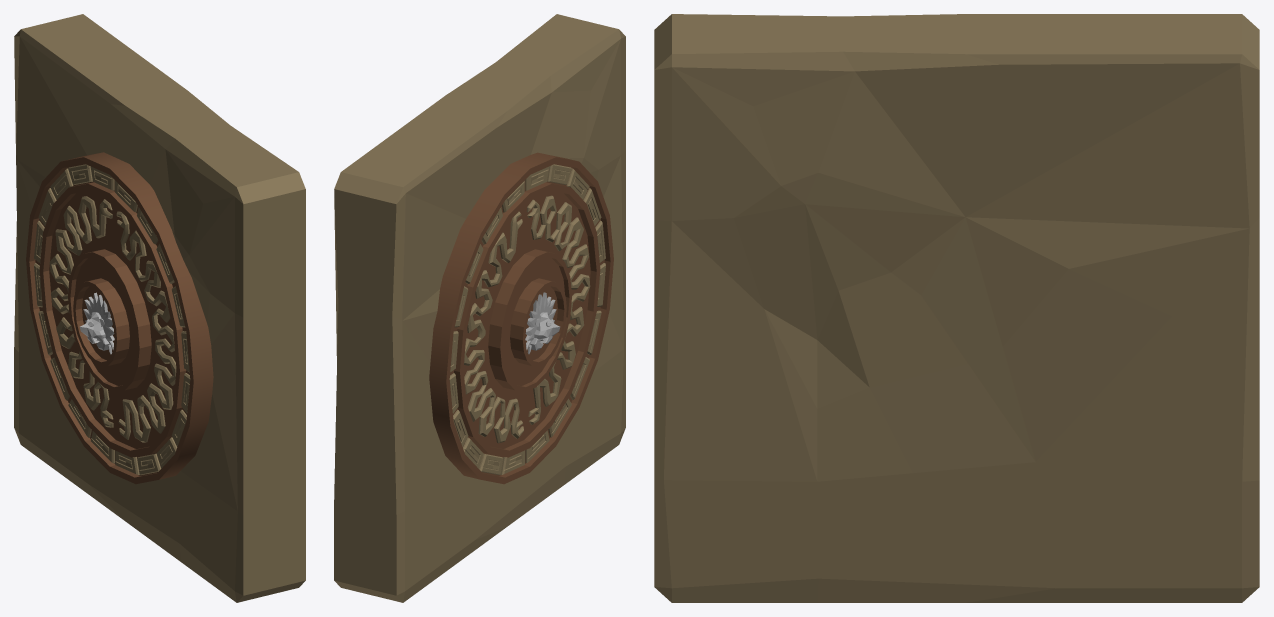
File: Hybrid_Door_V3.fbx
3 renders of one model, left to right at view 1: azimuth 30°, elevation 25°; view 2: azimuth 150°, elevation 25°; view 3: azimuth 270°, elevation 25°, orthographic. The views are drawn at different scales.
Parts seen in each view (by area): view 1: Door_Block, Rims (×2), Plane (×2), Snakes, Squares, polySurface141, Spikes, InputPlane, Body; view 2: Door_Block, Rims (×2), Plane (×2), Snakes, Squares, polySurface141, Spikes, InputPlane, Body; view 3: Door_Block.
Boxes of the visible parts, x1,y1,x2,y2 form: Door_Block: (14,14,305,602); Rims (×2): (26,152,213,484); Plane (×2): (35,164,189,475); Snakes: (49,196,176,442); Squares: (34,164,190,475); polySurface141: (73,278,129,366); Spikes: (83,292,114,340); InputPlane: (82,286,114,360); Body: (79,312,105,339); Door_Block: (334,14,625,602); Rims (×2): (429,152,613,484); Plane (×2): (450,164,604,475); Snakes: (464,195,590,443); Squares: (449,164,605,475); polySurface141: (510,278,566,366); Spikes: (525,292,556,340); InputPlane: (525,286,557,360); Body: (534,312,560,339); Door_Block: (654,14,1259,602).
Bounding box in the file's own units: 0.00892 × 0.03 × 0.03.
